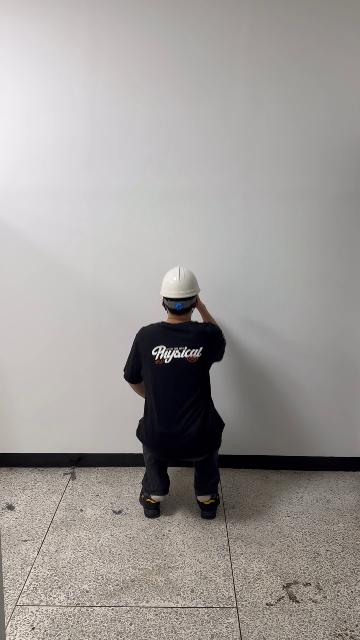helmet_worn: (159, 265, 201, 299)
shoe_worn: (139, 487, 160, 518), (196, 491, 219, 518)
vest_not_worn: (137, 322, 223, 467)
